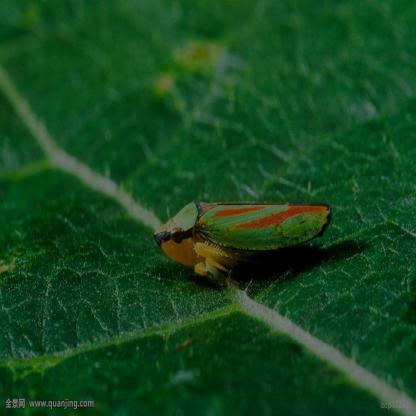green-leafhopper: (147, 197, 332, 277)
